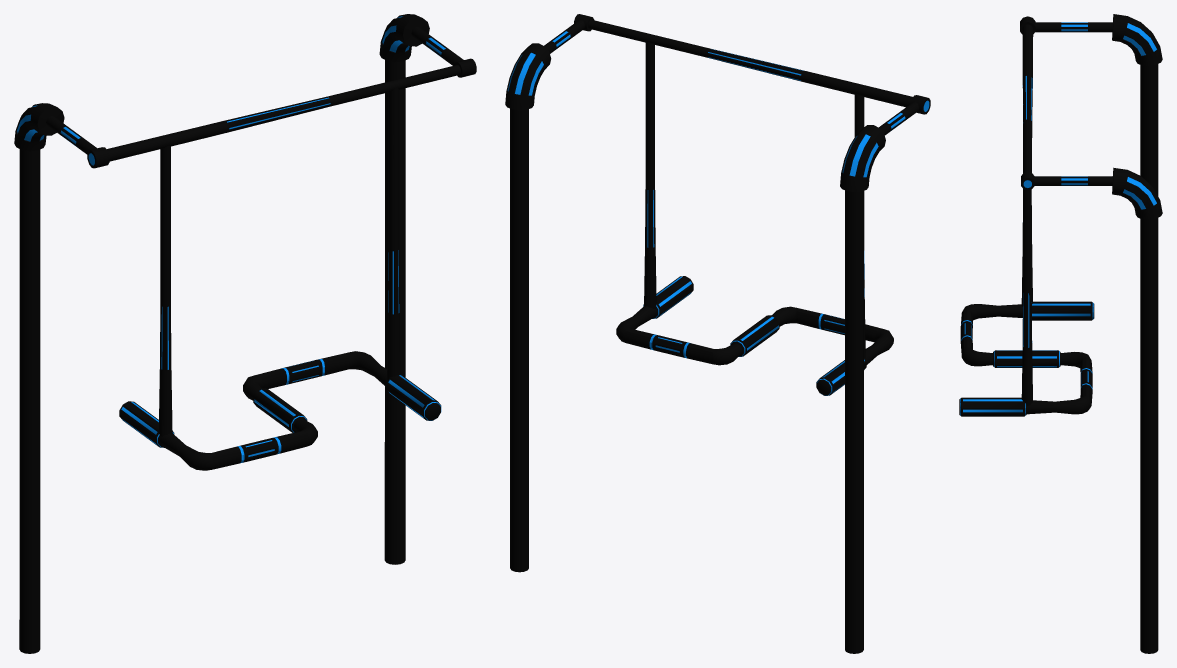
Rendered from S shaped swing.FBX.
The picture shows the model from 3 angles, left to right: view 1: azimuth 30°, elevation 25°; view 2: azimuth 150°, elevation 25°; view 3: azimuth 270°, elevation 25°; orthographic projection. The views are drawn at different scales.
Visible parts, largest first — view 1: S_ShapedRing001, Cylinder113, Cylinder114; view 2: S_ShapedRing001, Cylinder114, Cylinder113; view 3: S_ShapedRing001, Cylinder114, Cylinder113.
Boxes of the visible parts, x1,y1,x2,y2 form: S_ShapedRing001: (87,58,476,470); Cylinder113: (14,103,96,653); Cylinder114: (379,14,463,564); S_ShapedRing001: (574,14,930,395); Cylinder114: (505,20,584,572); Cylinder113: (840,102,919,653); S_ShapedRing001: (959,16,1094,416); Cylinder114: (1032,167,1162,653); Cylinder113: (1033,14,1162,195).
Bounding box in the file's own units: 681 × 925 × 355.
